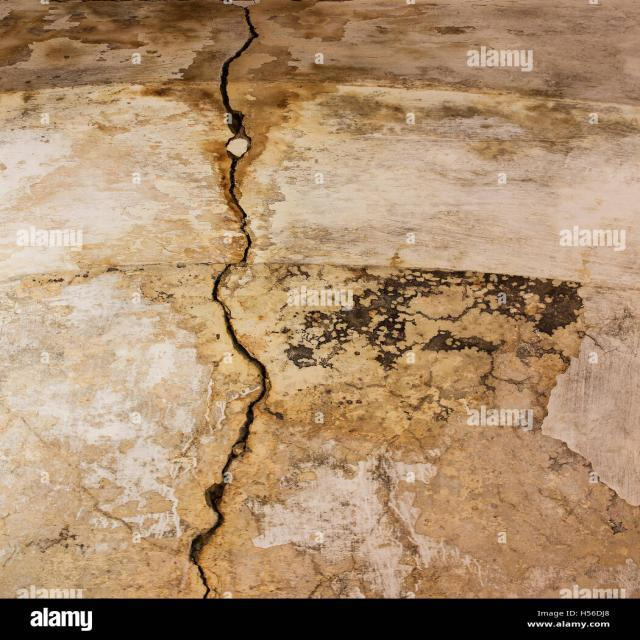Crack: (187, 2, 271, 597)
